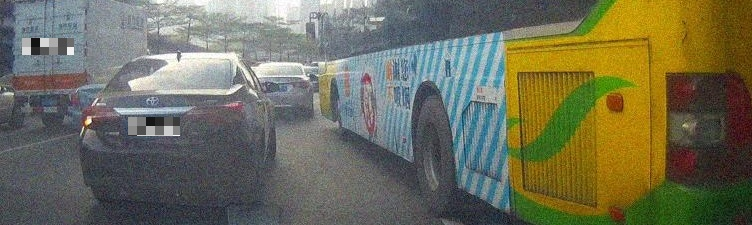L_light: (81, 106, 124, 128)
R_light: (186, 103, 242, 130)
T_light: (150, 84, 175, 91)
day-left: (79, 53, 245, 204)
plate_1: (22, 38, 74, 55)
plate_2: (128, 117, 180, 136)
